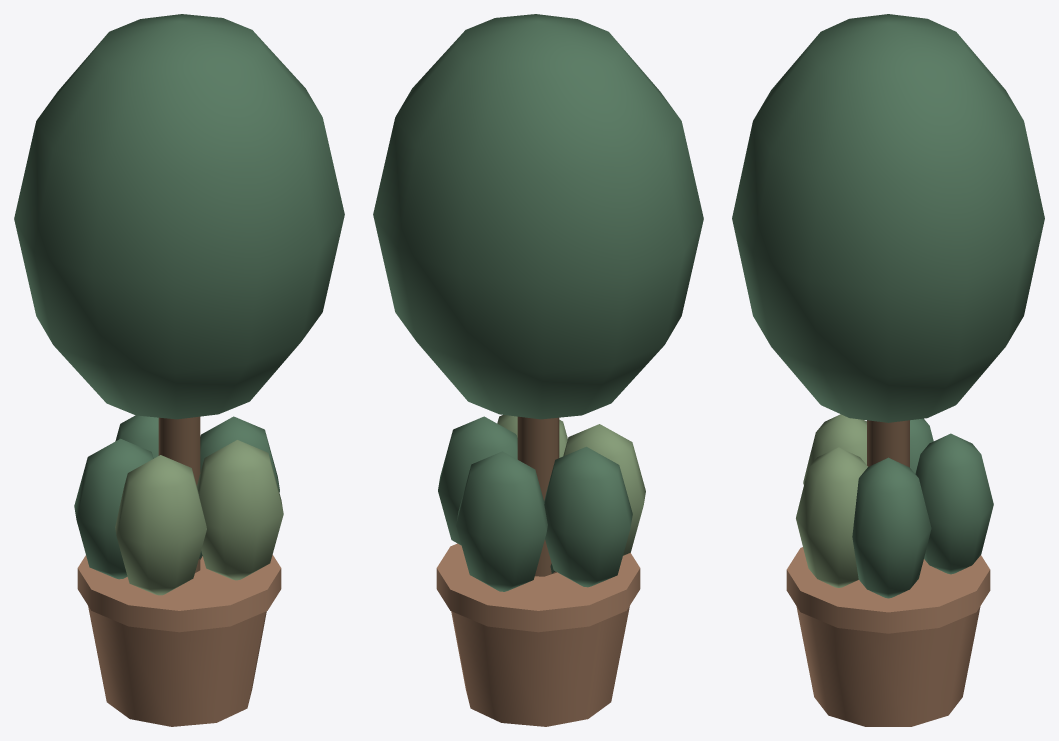
File: FlowerPot_A.glb
The picture shows the model from 3 angles, left to right: view 1: azimuth 30°, elevation 25°; view 2: azimuth 150°, elevation 25°; view 3: azimuth 270°, elevation 25°; orthographic projection.
Visible parts, largest first — view 1: Soft crown, FlowerPot_A bowl, FlowerPot_A foliage.001, FlowerPot_A foliage.003, FlowerPot_A rim, FlowerPot_A foliage.004, Small tree trunk, FlowerPot_A foliage, FlowerPot_A foliage.002; view 2: Soft crown, FlowerPot_A bowl, FlowerPot_A foliage.002, FlowerPot_A foliage.004, FlowerPot_A rim, FlowerPot_A foliage, FlowerPot_A foliage.001, Small tree trunk, FlowerPot_A foliage.003; view 3: Soft crown, FlowerPot_A bowl, FlowerPot_A rim, FlowerPot_A foliage, FlowerPot_A foliage.002, FlowerPot_A foliage.003, FlowerPot_A foliage.001, Small tree trunk, FlowerPot_A foliage.004.
Boxes of the visible parts, x1=… form: Soft crown: x1=14, y1=14, x2=344, y2=419; FlowerPot_A bowl: x1=88, y1=606, x2=266, y2=726; FlowerPot_A foliage.001: x1=115, y1=455, x2=206, y2=595; FlowerPot_A foliage.003: x1=197, y1=440, x2=283, y2=580; FlowerPot_A rim: x1=77, y1=555, x2=281, y2=632; FlowerPot_A foliage.004: x1=74, y1=438, x2=153, y2=579; Small tree trunk: x1=158, y1=416, x2=200, y2=572; FlowerPot_A foliage: x1=200, y1=416, x2=279, y2=492; FlowerPot_A foliage.002: x1=115, y1=415, x2=158, y2=458; Soft crown: x1=373, y1=14, x2=703, y2=419; FlowerPot_A bowl: x1=451, y1=606, x2=629, y2=726; FlowerPot_A foliage.002: x1=456, y1=451, x2=547, y2=591; FlowerPot_A foliage.004: x1=544, y1=446, x2=632, y2=587; FlowerPot_A rim: x1=436, y1=543, x2=640, y2=632; FlowerPot_A foliage: x1=438, y1=416, x2=517, y2=545; FlowerPot_A foliage.001: x1=563, y1=424, x2=645, y2=555; Small tree trunk: x1=517, y1=416, x2=559, y2=576; FlowerPot_A foliage.003: x1=497, y1=415, x2=567, y2=457; Soft crown: x1=732, y1=14, x2=1044, y2=422; FlowerPot_A bowl: x1=796, y1=606, x2=980, y2=726; FlowerPot_A rim: x1=786, y1=547, x2=990, y2=633; FlowerPot_A foliage: x1=852, y1=457, x2=931, y2=598; FlowerPot_A foliage.002: x1=915, y1=433, x2=993, y2=574; FlowerPot_A foliage.003: x1=796, y1=447, x2=867, y2=587; FlowerPot_A foliage.001: x1=803, y1=414, x2=866, y2=484; Small tree trunk: x1=867, y1=420, x2=909, y2=467; FlowerPot_A foliage.004: x1=910, y1=418, x2=933, y2=473.
Size of the model in its own units: 0.86 by 1.9 by 0.8.
